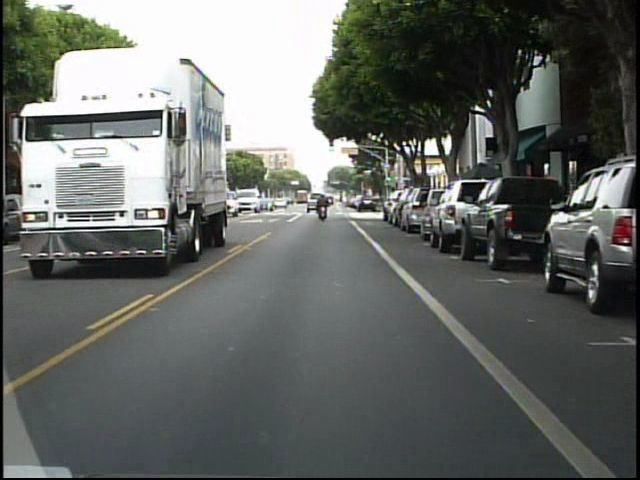person: (317, 192, 331, 223)
